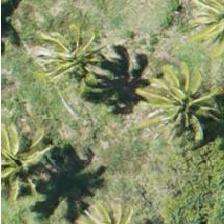Kelapa_Sawit: (133, 59, 223, 149), (30, 29, 120, 119), (0, 120, 63, 210)
